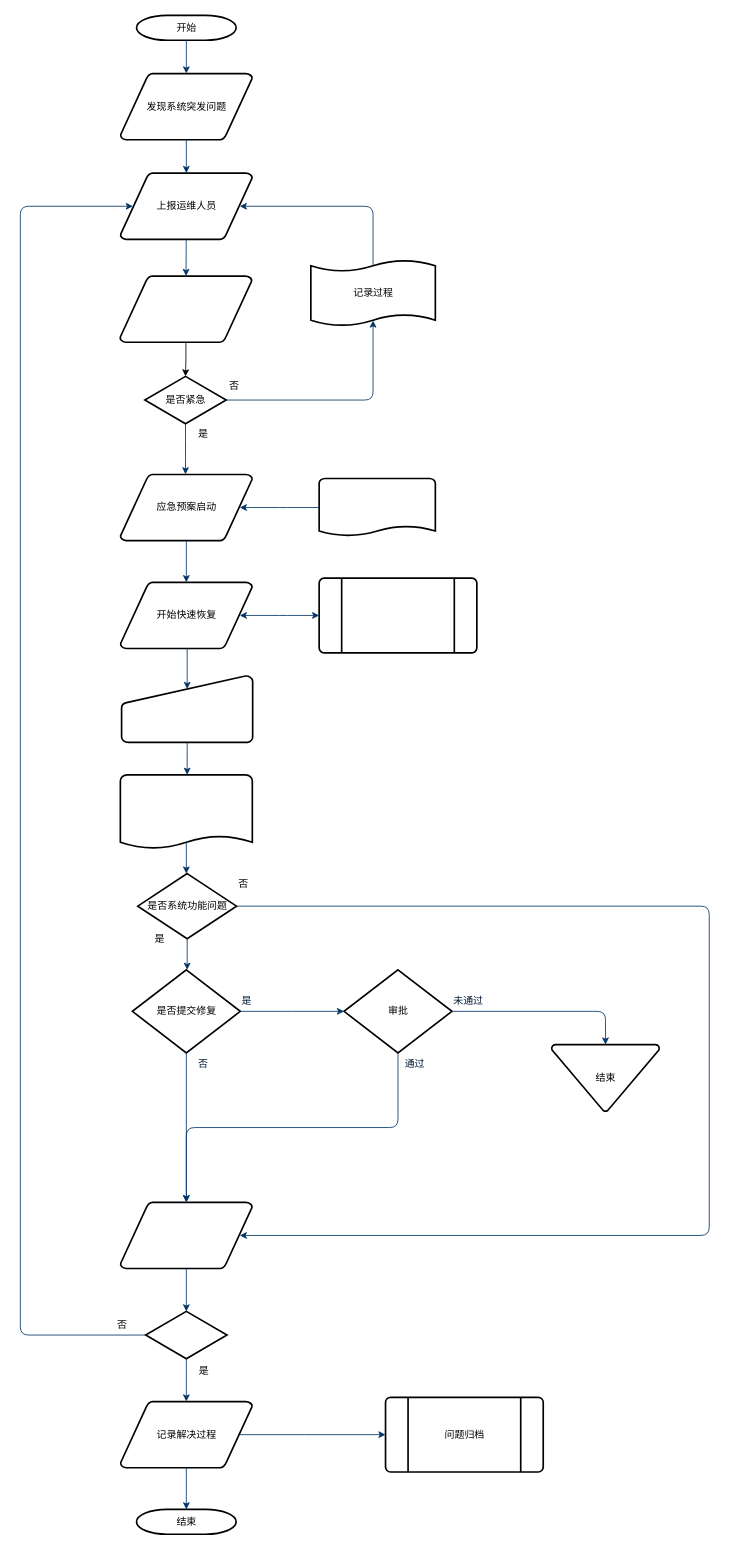
The diagram is 730 pixels wide and 1549 high, and some of its shapes have lost their labels. The shapes that lost their labels are listed below. From the top down, each one's centre as x and y in pixels, then its label:
(185,309): 现场检查判断处理
(377,507): 预案
(397,615): 恢复方案
(186,709): 系统完成恢复
(186,812): 问题总结
(186,1235): 反馈修复结果
(185,1334): 问题是否解决
